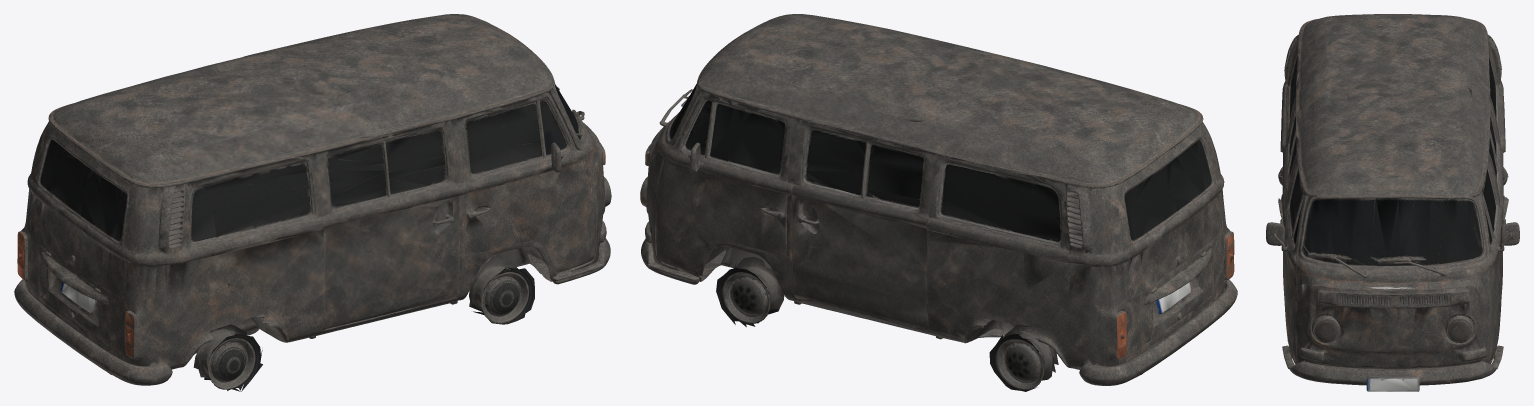
Rendered from pao-de-forma-queimado__01a16dcf.glb.
3 renders of one model, left to right at view 1: azimuth 30°, elevation 25°; view 2: azimuth 150°, elevation 25°; view 3: azimuth 270°, elevation 25°, orthographic. The views are drawn at different scales.
Parts seen in each view (by area): view 1: pao-de-forma-queimado; view 2: pao-de-forma-queimado; view 3: pao-de-forma-queimado.
Boxes of the visible parts, box(x1,y1,x2,y2) form: pao-de-forma-queimado: box(14, 14, 611, 391); pao-de-forma-queimado: box(640, 14, 1237, 391); pao-de-forma-queimado: box(1266, 14, 1519, 391).
Size of the model in its own units: 4.5 by 2.02 by 2.19.
Materials: 1 (1 with a texture image).
